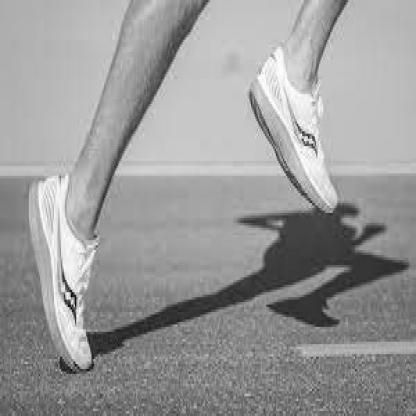ankle: (68, 224, 70, 229), (294, 85, 296, 88)
heel: (260, 76, 263, 79), (41, 184, 43, 188)
left_foot: (250, 43, 342, 217)
pinky: (330, 184, 333, 189), (67, 335, 69, 339)
right_foot: (31, 177, 94, 373)
toe: (330, 200, 332, 204), (90, 355, 91, 357)
